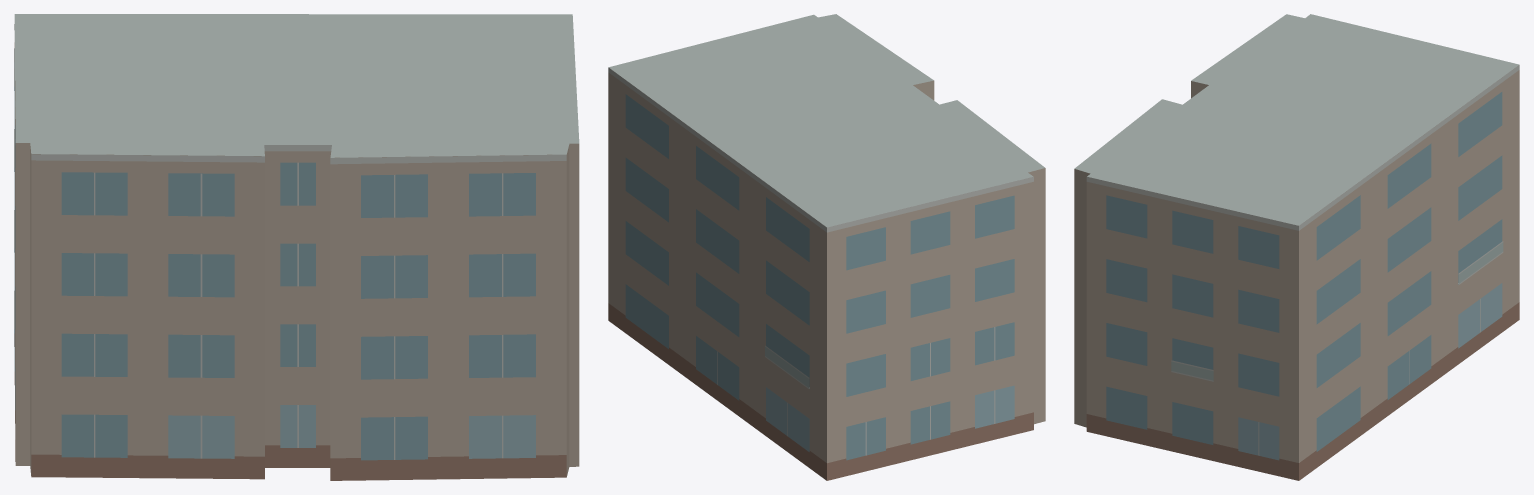
Rendered from survey-upis-32738184.glb.
3 renders of one model, left to right at view 1: azimuth 30°, elevation 25°; view 2: azimuth 150°, elevation 25°; view 3: azimuth 270°, elevation 25°, orthographic. The views are drawn at different scales.
Parts seen in each view (by area): view 1: survey-upis-32738184.tmp; view 2: survey-upis-32738184.tmp; view 3: survey-upis-32738184.tmp.
Part boxes in pixels (left/top/right/bottom): survey-upis-32738184.tmp: left=14, top=14, right=579, bottom=480; survey-upis-32738184.tmp: left=608, top=14, right=1045, bottom=480; survey-upis-32738184.tmp: left=1074, top=14, right=1519, bottom=480.
Bounding box in the file's own units: 21.91 × 12.3 × 19.47.
